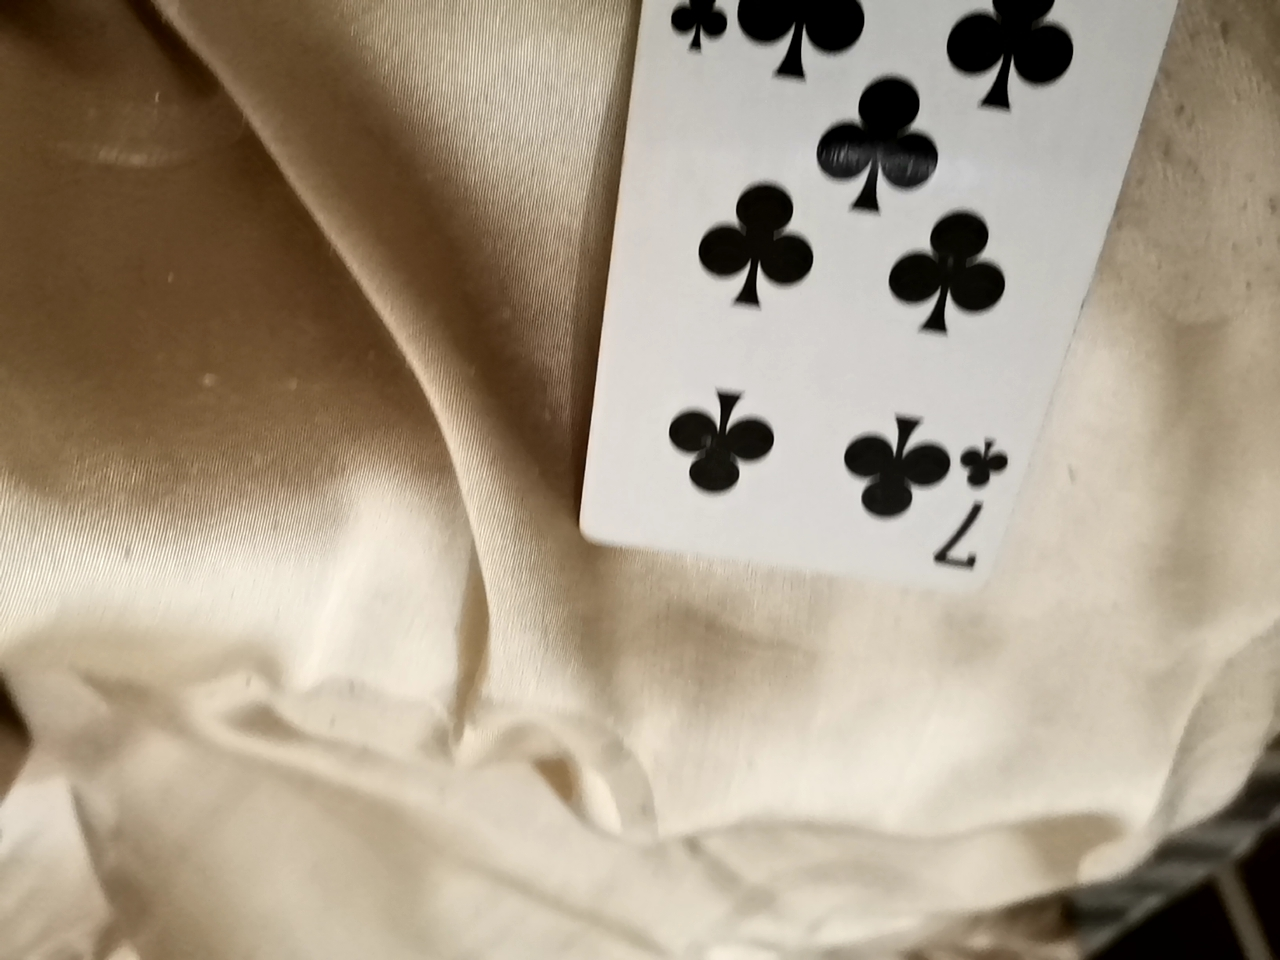mh 7: (580, 3, 1184, 604)
